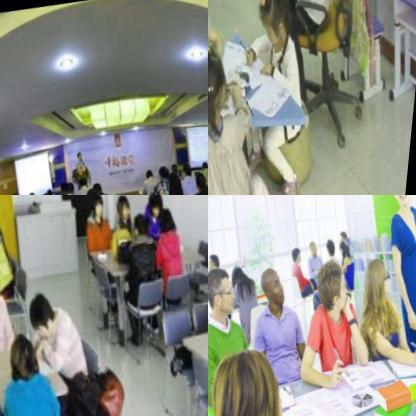head: (208, 336, 307, 416), (208, 37, 244, 117), (312, 253, 358, 315), (360, 245, 403, 302), (27, 282, 66, 339), (251, 0, 299, 45), (208, 264, 245, 321), (7, 325, 44, 373), (260, 263, 294, 306), (230, 257, 254, 291), (129, 199, 152, 231), (155, 200, 177, 231), (167, 165, 188, 195), (144, 195, 168, 213), (208, 248, 225, 272), (86, 195, 107, 214), (112, 195, 133, 214), (194, 164, 208, 188), (84, 181, 107, 195), (93, 174, 108, 194), (326, 232, 339, 253), (341, 224, 354, 245), (293, 241, 307, 260), (340, 237, 354, 256), (170, 157, 184, 173), (181, 158, 195, 174), (146, 161, 160, 177), (309, 236, 322, 253), (67, 175, 79, 193), (159, 160, 172, 176), (60, 176, 72, 193), (76, 146, 88, 161), (57, 189, 78, 195), (41, 187, 56, 195), (30, 186, 42, 195), (48, 184, 57, 195), (202, 154, 208, 165)
